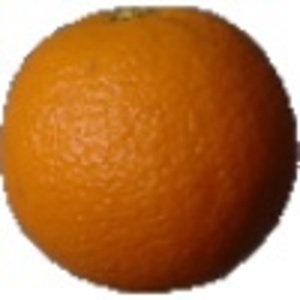laranja: (2, 3, 299, 295)
